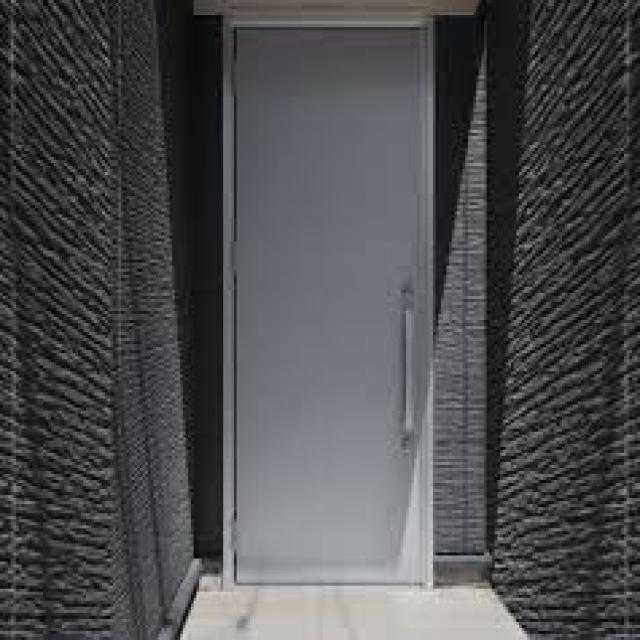door: (224, 18, 436, 589)
